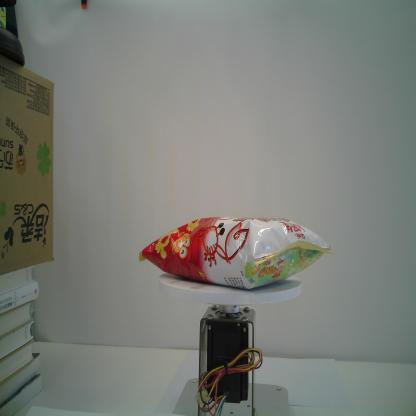Puffed Food: (138, 214, 334, 291)
